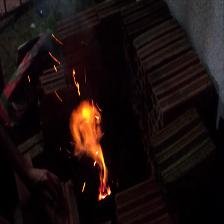fire: (46, 83, 132, 211)
